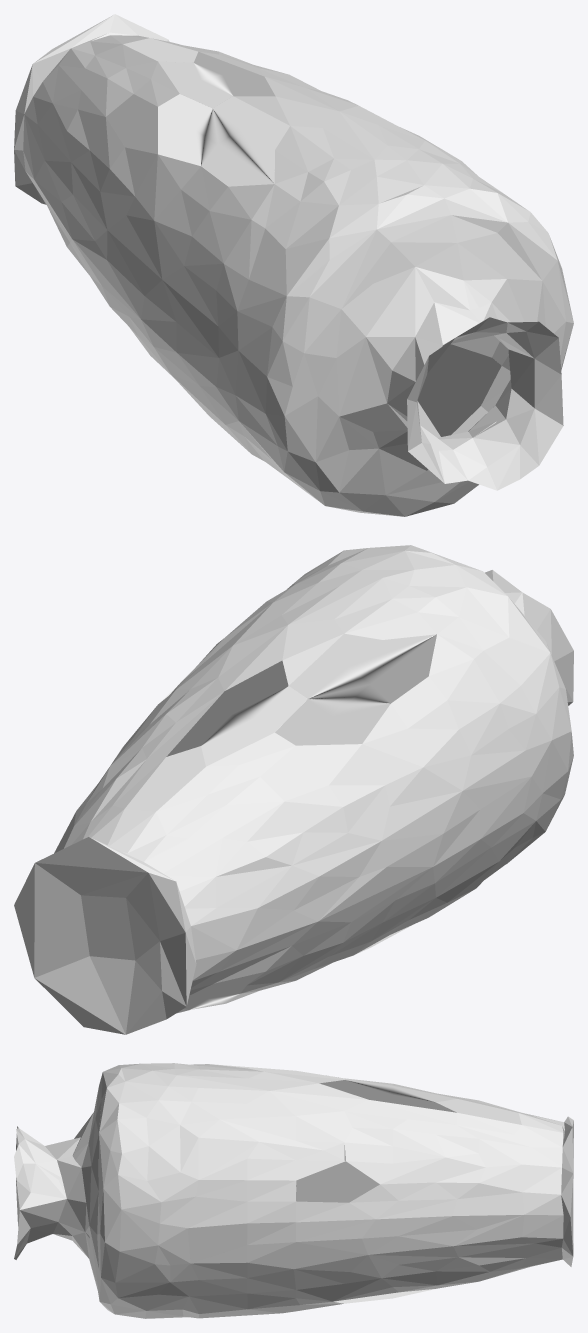
Rendered from model_align.obj.
3 views of the same model, one above another, from view 1: azimuth 30°, elevation 25°; view 2: azimuth 150°, elevation 25°; view 3: azimuth 270°, elevation 25° (orthographic). The views are drawn at different scales.
Size of the model in its own units: 0.0621 by 0.0618 by 0.1362.
2 materials, 2 textured.
